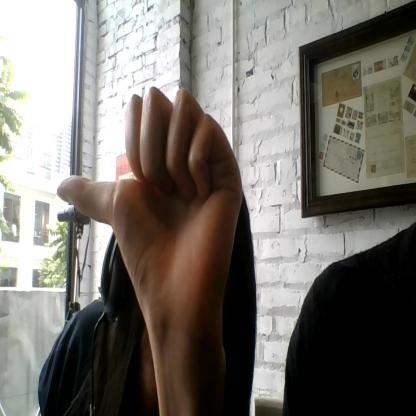right: (56, 86, 244, 342)
